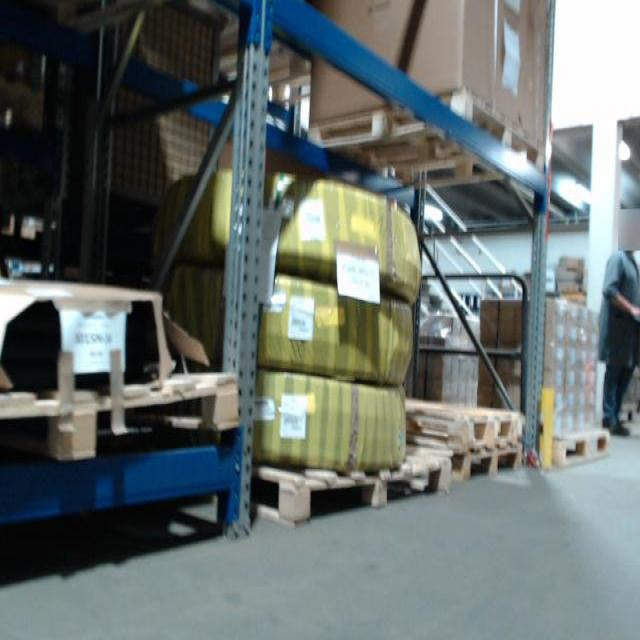pallet: (308, 86, 557, 192), (1, 365, 242, 470), (252, 447, 452, 531), (404, 399, 527, 447), (452, 436, 524, 481), (552, 424, 612, 470)
stillage: (52, 1, 228, 210)
